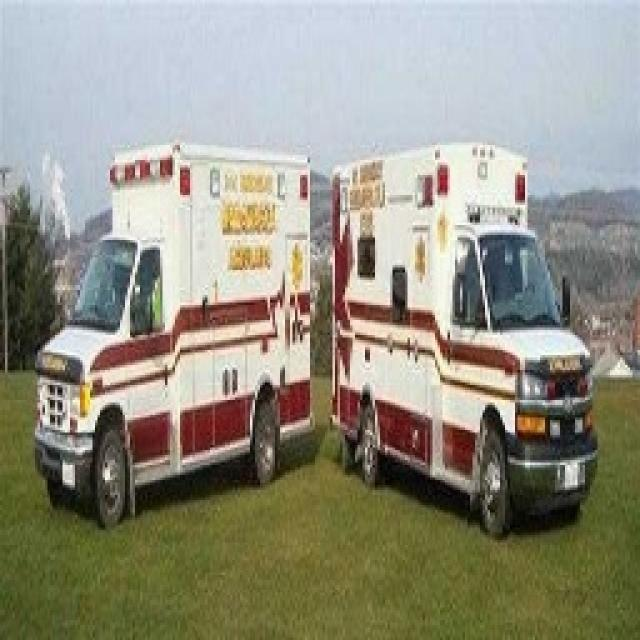emergency-vehicle: (322, 139, 610, 524), (49, 119, 313, 486)
